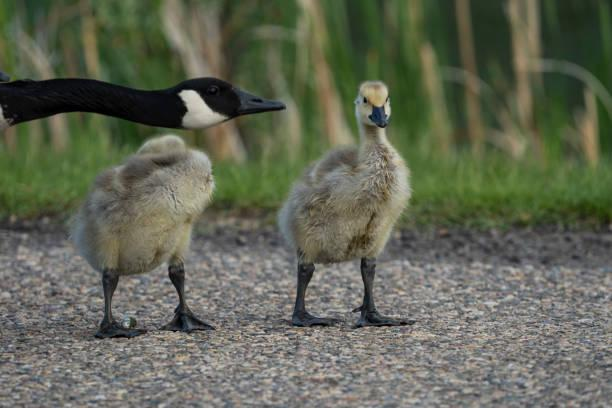Canadian-Goose: (274, 80, 411, 335), (74, 134, 221, 332), (0, 71, 285, 133)
